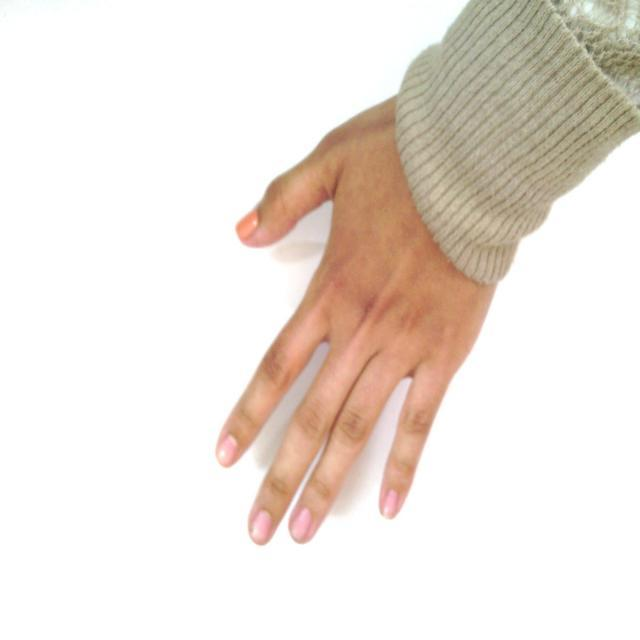Fingernail: (292, 508, 312, 541), (253, 510, 273, 542), (237, 212, 257, 238), (219, 436, 237, 464), (383, 490, 398, 518)
